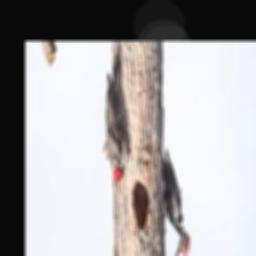Woodpecker: (162, 149, 191, 256), (105, 42, 127, 182)
